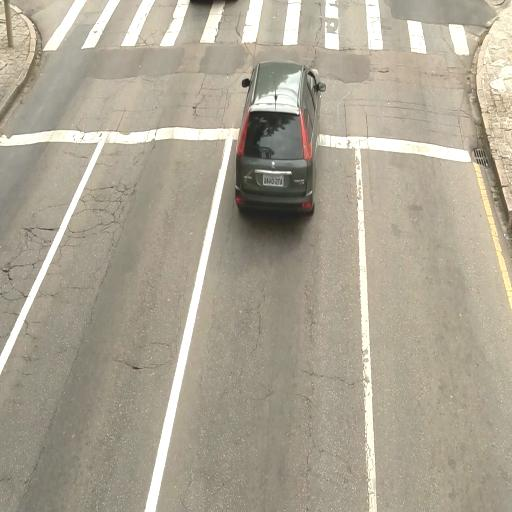car: (234, 60, 324, 214), (188, 0, 238, 5)
